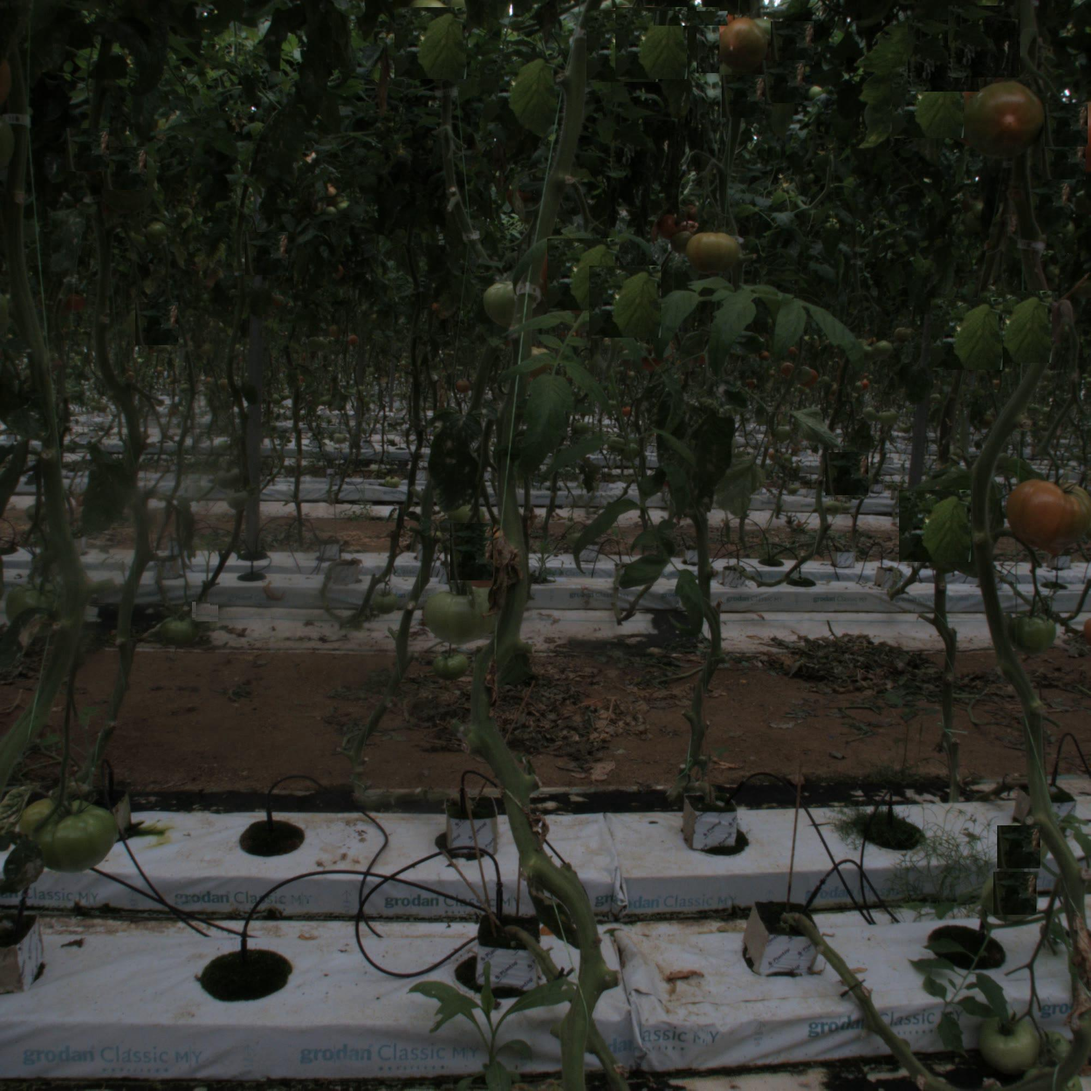semi-ripe: (1008, 473, 1085, 551), (972, 80, 1046, 154), (686, 229, 740, 284), (721, 22, 771, 72)
unripe: (25, 789, 112, 876), (974, 1010, 1043, 1078), (428, 583, 492, 647), (1010, 610, 1055, 655), (484, 281, 525, 323), (166, 614, 200, 648), (436, 648, 470, 681)
